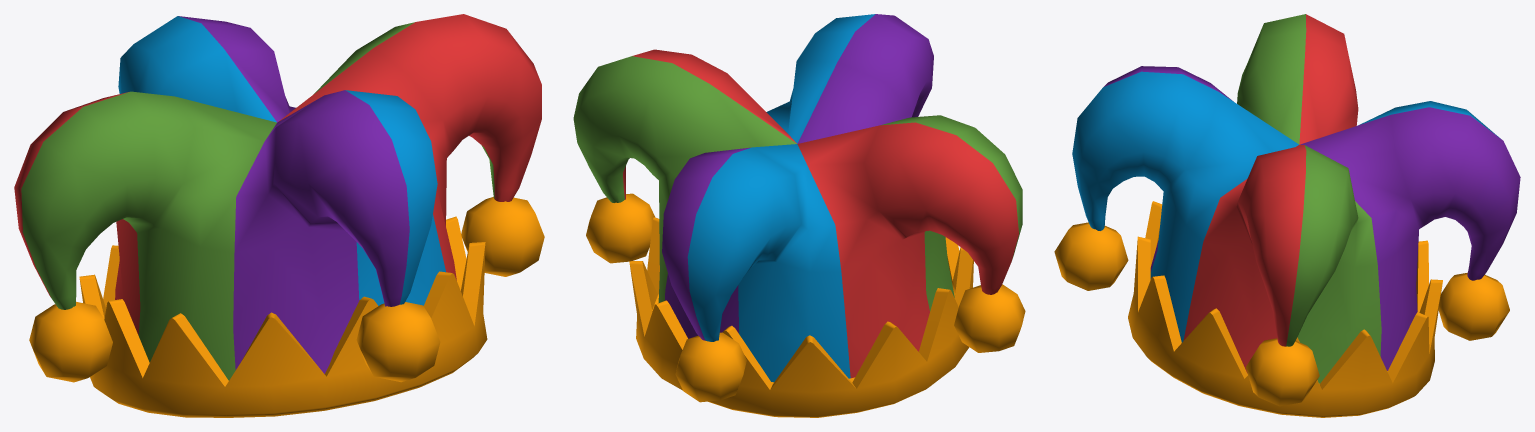
Rendered from Costume_8_02.glb.
3 renders of one model, left to right at view 1: azimuth 30°, elevation 25°; view 2: azimuth 150°, elevation 25°; view 3: azimuth 270°, elevation 25°, orthographic. The views are drawn at different scales.
Visible parts, largest first — view 1: Costume_8_02; view 2: Costume_8_02; view 3: Costume_8_02.
Boxes of the visible parts, box(x1,y1,x2,y2) form: Costume_8_02: box(14, 14, 544, 417); Costume_8_02: box(573, 14, 1025, 417); Costume_8_02: box(1054, 14, 1520, 417).
Bounding box in the file's own units: 0.8907 × 0.5654 × 0.8147.
Materials: 1 (1 with a texture image).
